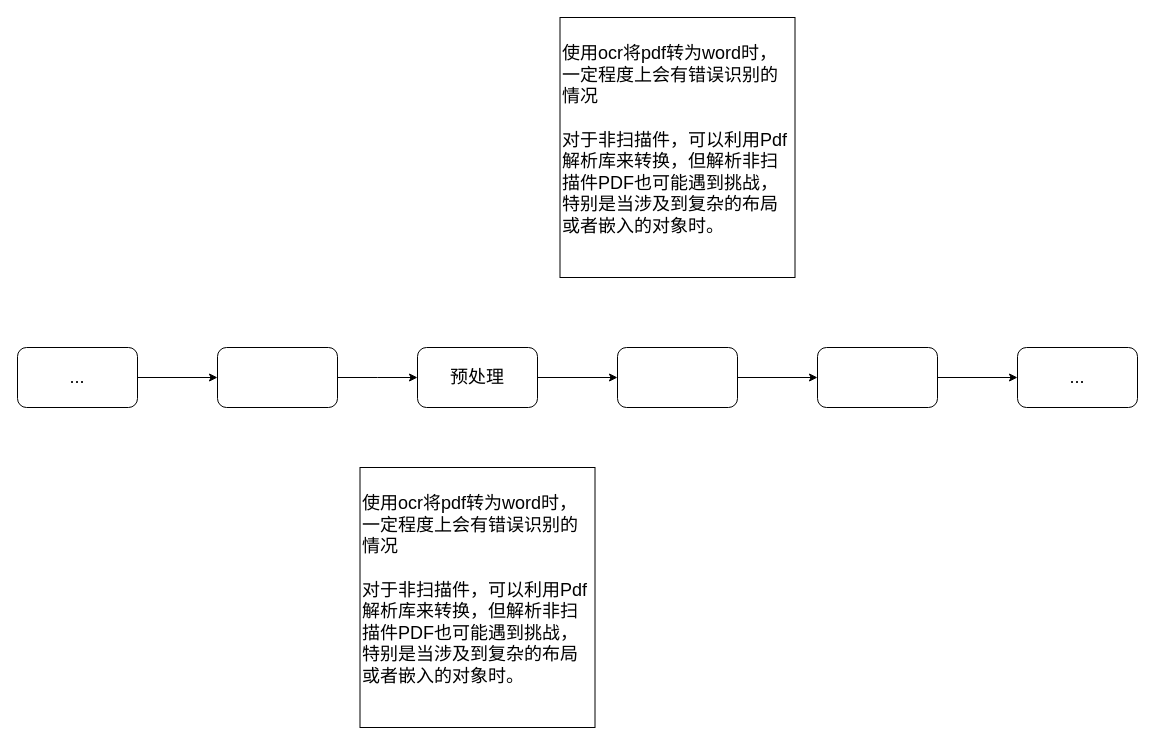
The diagram is 1155 pixels wide and 745 high, and some of its shapes have lost their labels. Each missing label, with the centre of its shape:
"编写" goes at (x=677, y=377).
"质检" goes at (x=877, y=377).
"输入" goes at (x=277, y=377).
